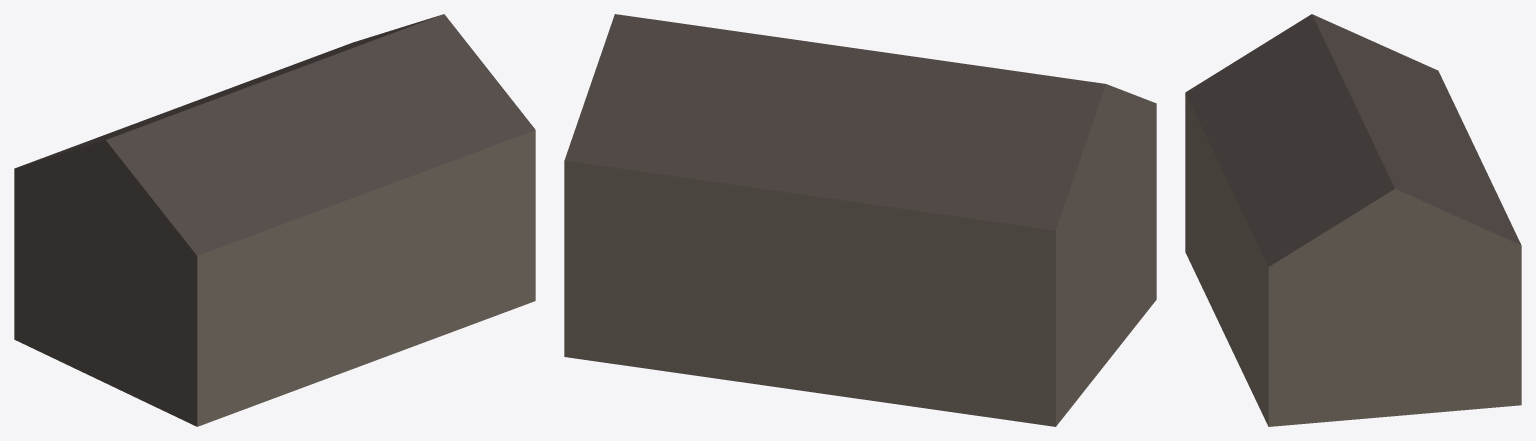
3 renders of one model, left to right at view 1: azimuth 30°, elevation 25°; view 2: azimuth 150°, elevation 25°; view 3: azimuth 270°, elevation 25°, orthographic. The views are drawn at different scales.
Visible parts, largest first — view 1: HP-w389702016; view 2: HP-w389702016; view 3: HP-w389702016.
Boxes of the visible parts, left/top/right/bottom form: HP-w389702016: left=14, top=14, right=535, bottom=426; HP-w389702016: left=564, top=14, right=1156, bottom=426; HP-w389702016: left=1185, top=14, right=1521, bottom=426.
Size of the model in its own units: 23.74 by 12.81 by 17.16.
